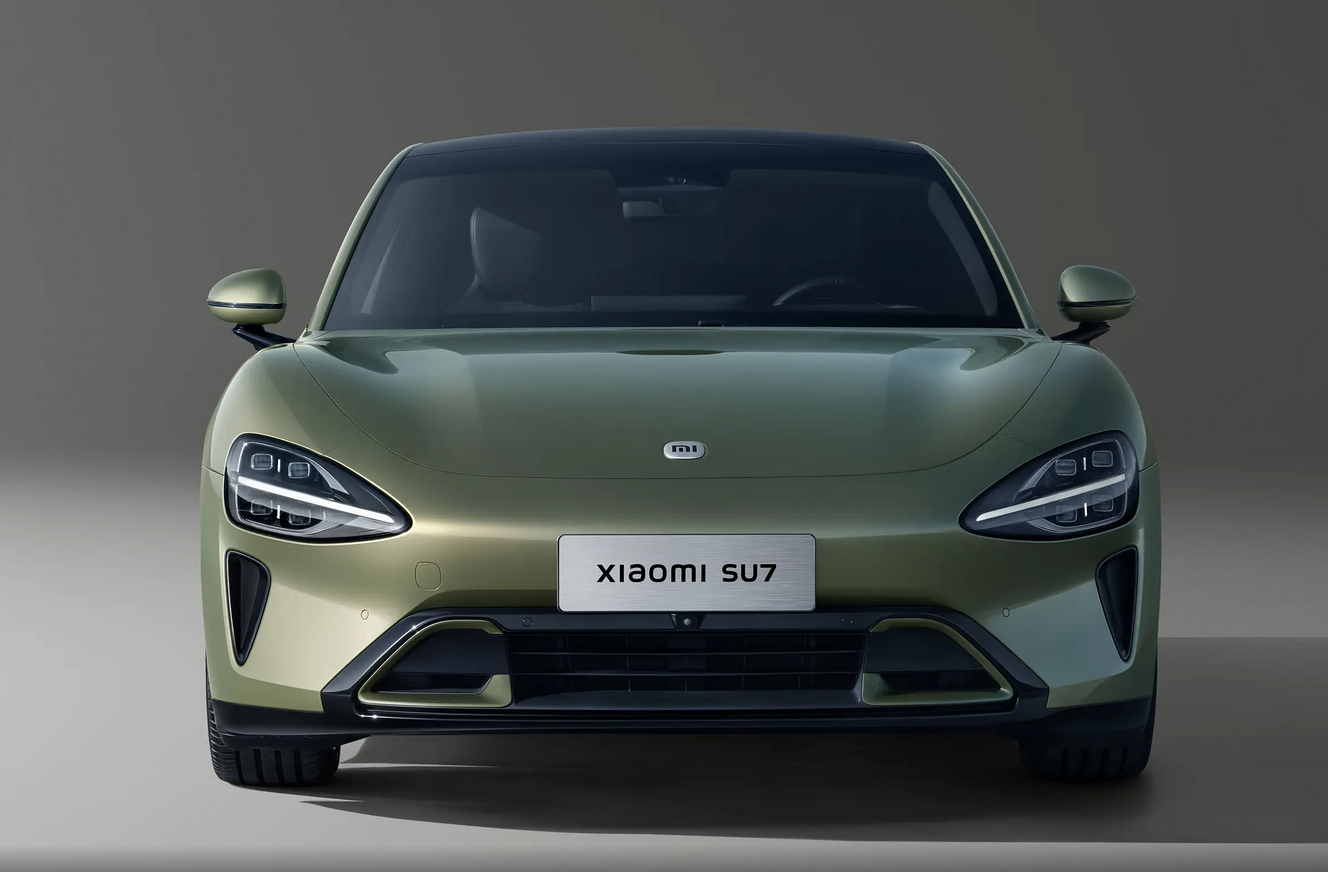su7: (194, 122, 1180, 813)
